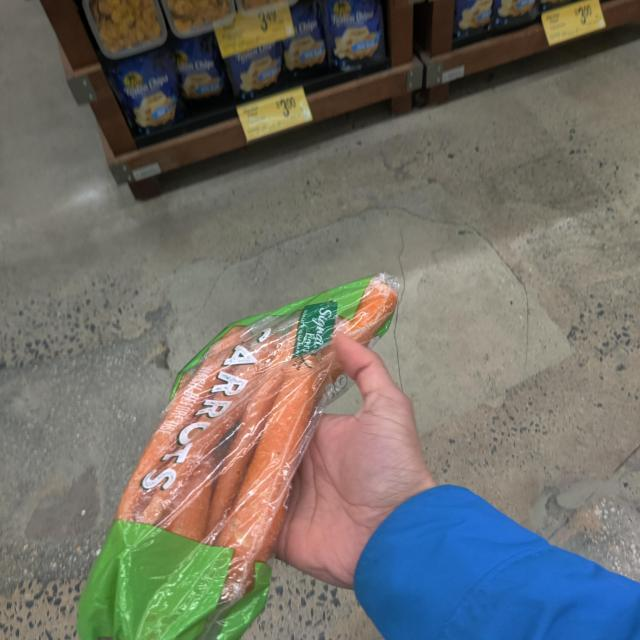Carrots: (78, 277, 402, 639)
